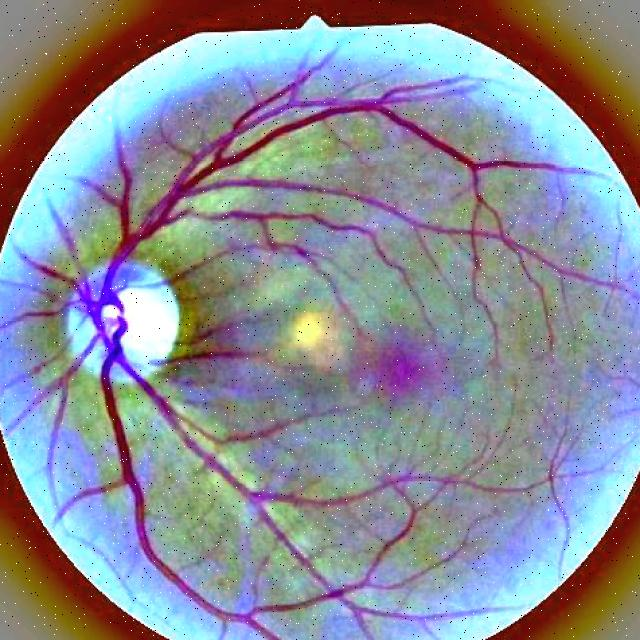Macula: (358, 339, 431, 398)
Nerves: (79, 255, 328, 585), (8, 356, 82, 509), (98, 186, 188, 308), (101, 324, 143, 541), (3, 298, 79, 330), (16, 247, 67, 280), (48, 204, 77, 261), (4, 283, 62, 301), (75, 264, 83, 272)
Optic Disk: (66, 268, 174, 377)
